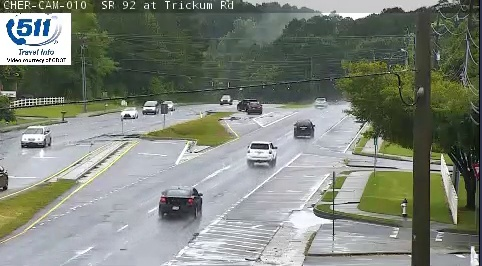car: (159, 187, 202, 213), (247, 141, 276, 162), (293, 120, 314, 137)
